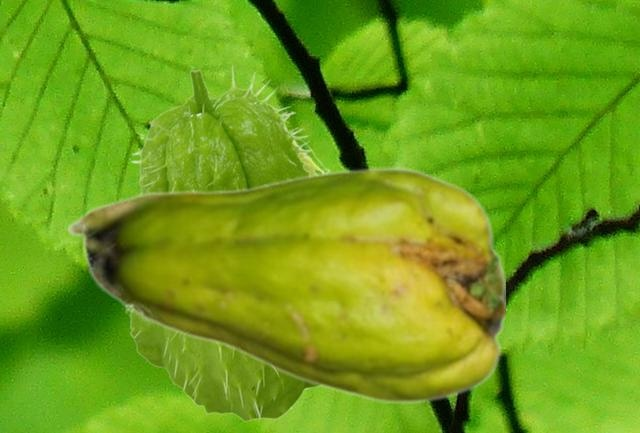sayote: (65, 166, 504, 404), (122, 64, 316, 421)
